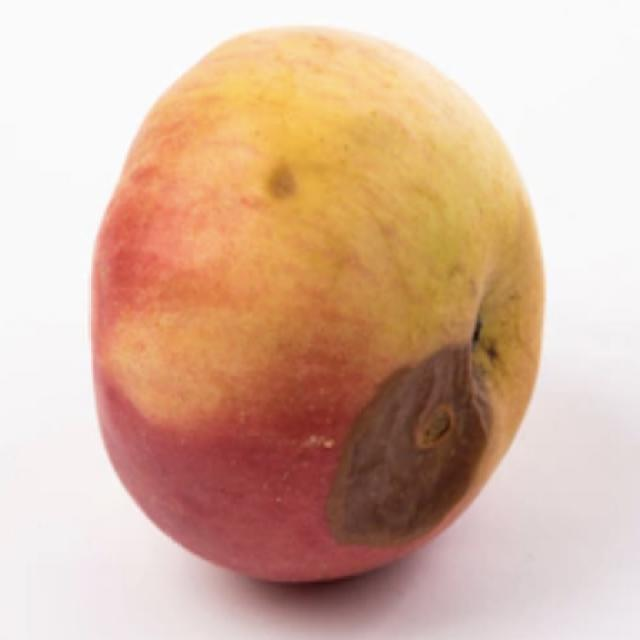rotten_apple: (84, 29, 550, 592)
